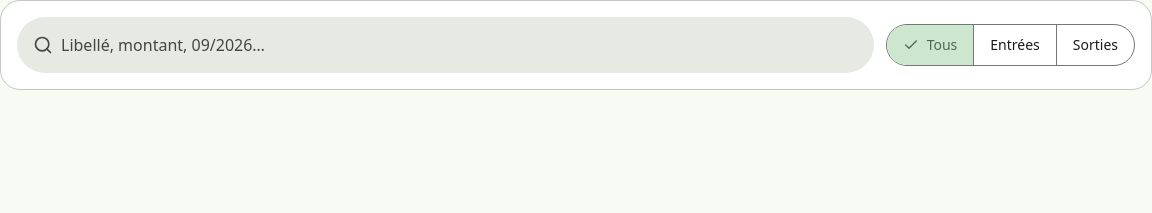
MovementSearch › « Effacer la recherche » vide le champ et la liste
Type "Gain" into the search field named "Rechercher un mouvement" at (465, 45), box top-left (61, 17), bottom-right (870, 73)
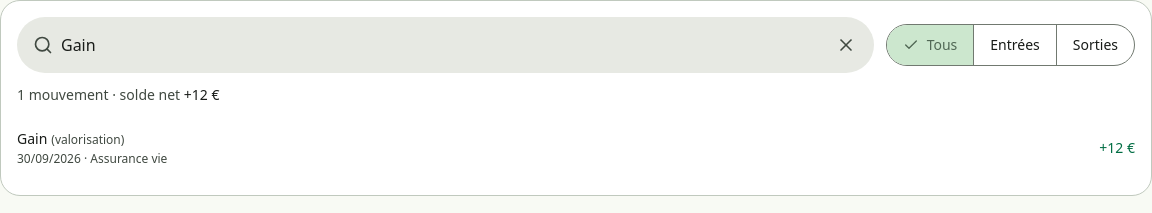
Now the number of list items is 1, box top-left (17, 117), bottom-right (1135, 179)
Click the button named "Effacer la recherche" at (846, 45), box top-left (822, 21), bottom-right (870, 69)
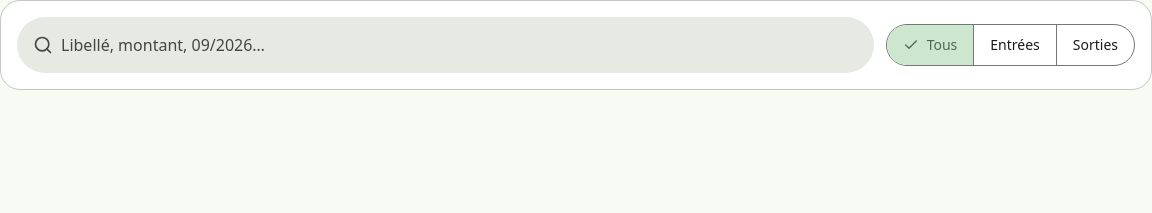
Now the search field named "Rechercher un mouvement" is empty, box top-left (61, 17), bottom-right (870, 73)
